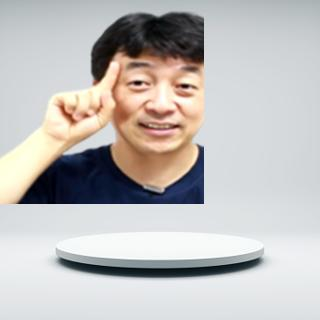IRRITATED: (39, 58, 123, 148)
